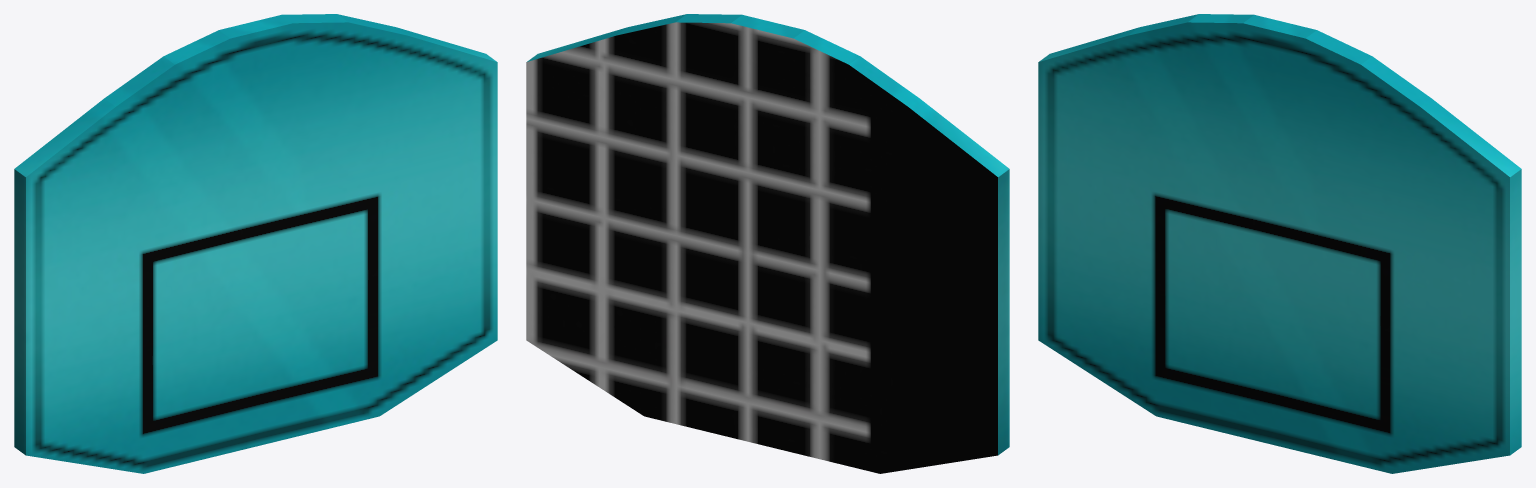
File: Board Ring.FBX
The picture shows the model from 3 angles, left to right: view 1: azimuth 30°, elevation 25°; view 2: azimuth 150°, elevation 25°; view 3: azimuth 330°, elevation 25°; orthographic projection.
Visible parts, largest first — view 1: Board Ring; view 2: Board Ring; view 3: Board Ring.
Part boxes in pixels (x1,y1,x2,y2): Board Ring: [14, 14, 497, 473]; Board Ring: [526, 14, 1009, 473]; Board Ring: [1038, 14, 1521, 473].
Bounding box in the file's own units: 0.5624 × 0.4719 × 0.0238.
